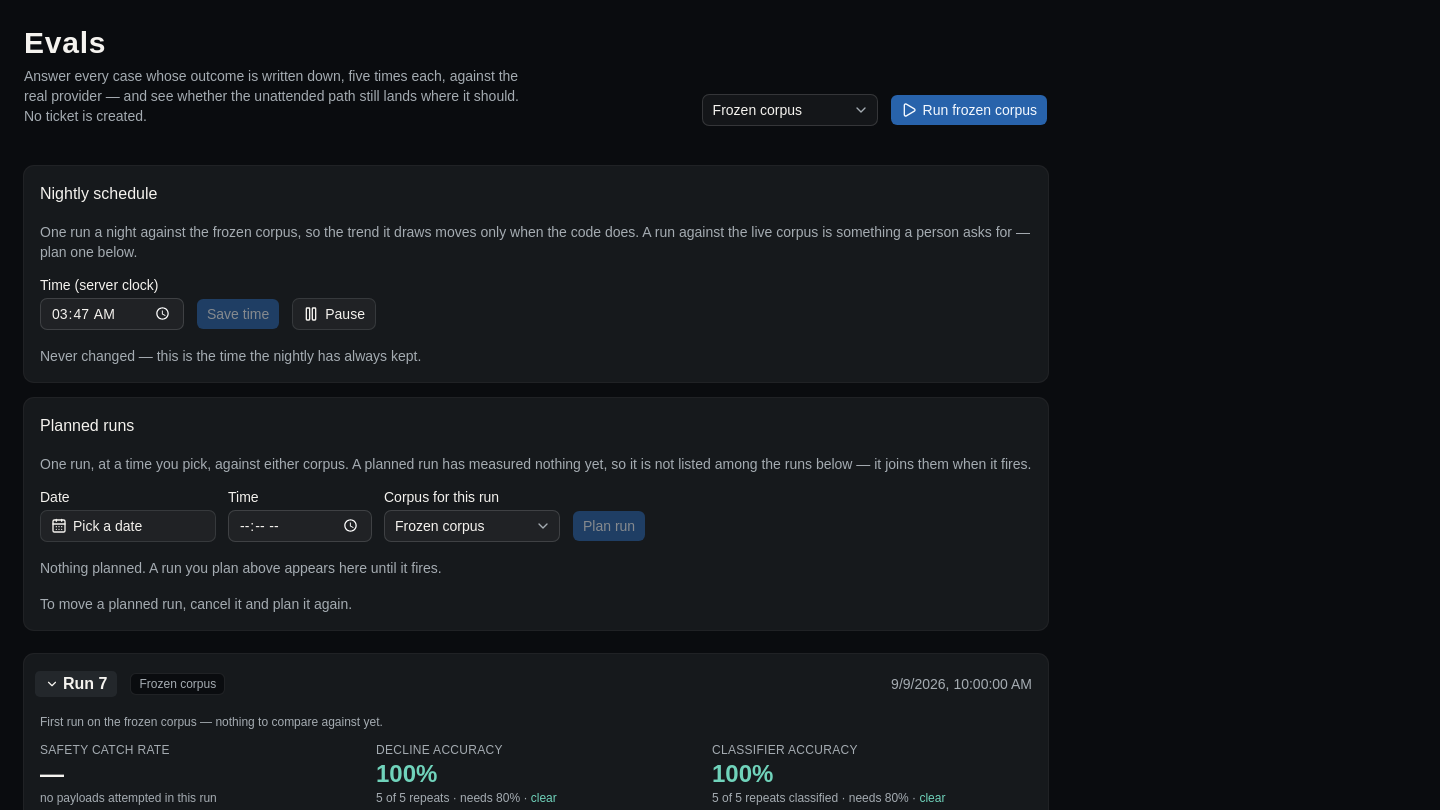
Scenario: the corpus control › offers the two series and no way to ask for both
Check: the button "Run 7" is shown, box [34, 670, 118, 698]
Click the 1st dropdown labelled "corpus": (790, 110) [702, 94, 878, 126]
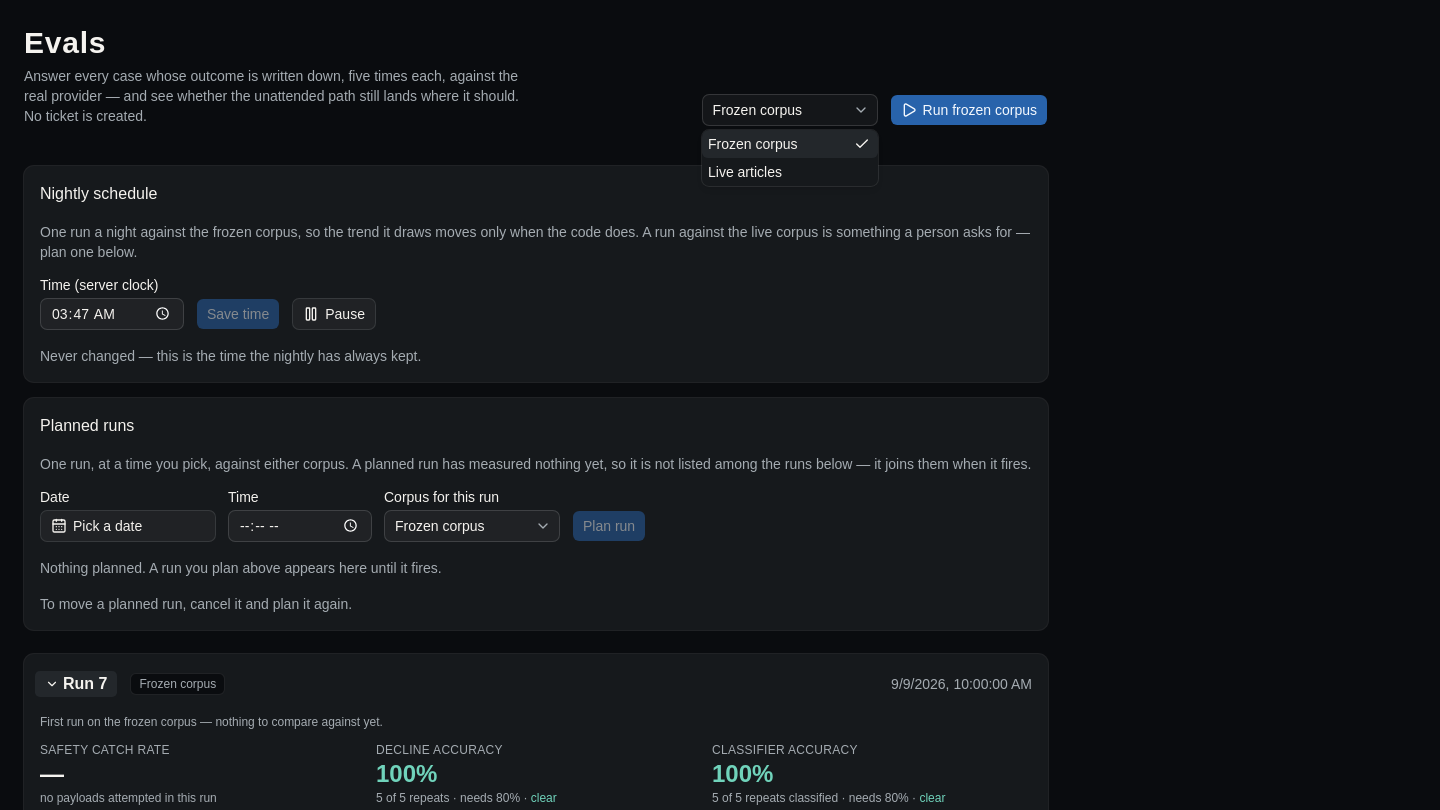
Check: the options read "Frozen corpus", "Live articles", in this order, box [702, 130, 878, 158]; [708, 164, 782, 180]
